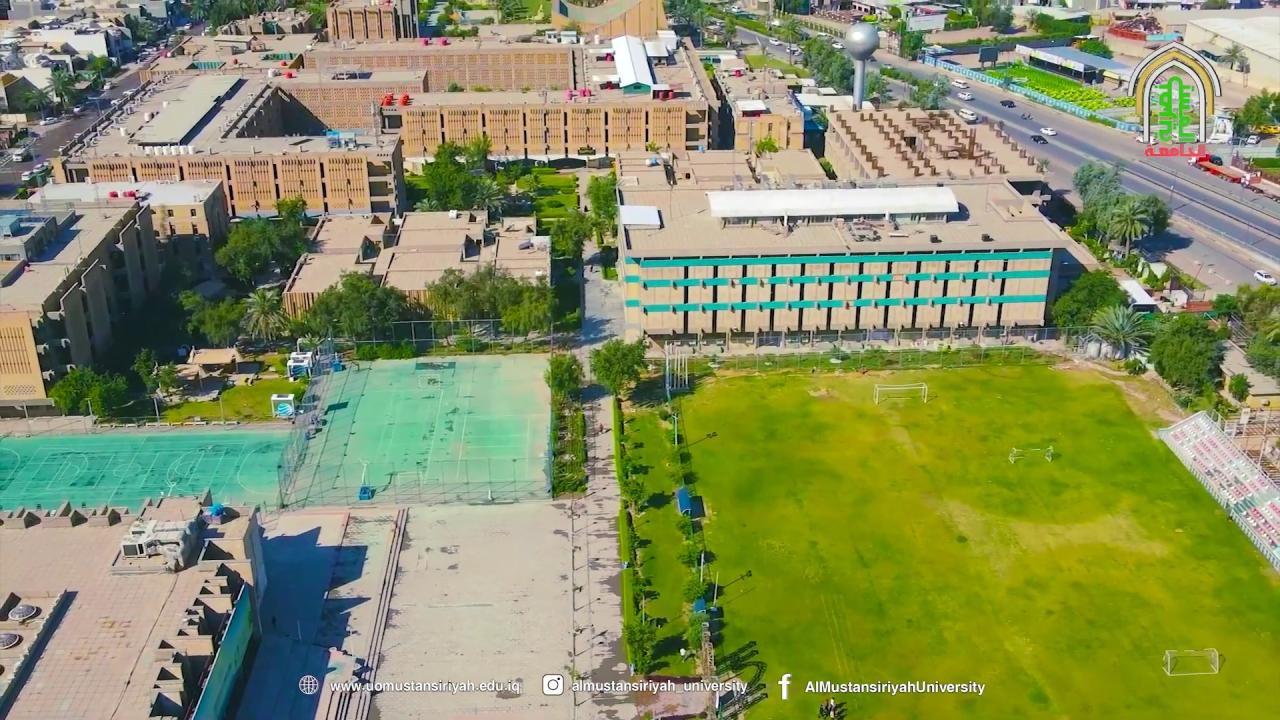car: (1254, 269, 1278, 286), (956, 108, 977, 122), (1135, 132, 1158, 144), (1245, 133, 1261, 145), (951, 79, 969, 88), (1040, 127, 1057, 136), (1031, 134, 1047, 143), (958, 92, 974, 101), (1000, 99, 1015, 108), (1022, 112, 1034, 120)
person: (1044, 445, 1053, 462)
tree: (423, 259, 557, 350), (1070, 159, 1171, 260), (678, 610, 767, 719), (303, 268, 408, 355), (588, 335, 648, 485), (542, 350, 587, 499), (1147, 311, 1223, 392), (1050, 268, 1127, 346), (47, 364, 129, 423), (212, 217, 280, 286), (305, 282, 368, 353), (177, 288, 244, 348), (588, 334, 647, 398), (1087, 302, 1153, 359), (130, 347, 179, 421), (406, 158, 471, 211), (1103, 195, 1152, 259), (423, 266, 466, 337), (238, 286, 290, 344), (800, 35, 851, 92), (1072, 159, 1121, 211), (586, 170, 619, 241), (549, 207, 593, 260), (542, 350, 584, 399), (468, 174, 504, 228), (1244, 328, 1279, 380), (1233, 94, 1268, 137), (44, 66, 76, 111), (130, 346, 159, 395), (1137, 193, 1170, 235), (776, 13, 802, 64), (464, 130, 492, 170), (681, 572, 711, 609), (86, 54, 115, 89), (271, 192, 307, 220), (25, 85, 51, 116), (1221, 41, 1248, 70), (1227, 371, 1252, 402), (720, 11, 739, 48), (817, 696, 848, 718), (753, 133, 778, 158)
